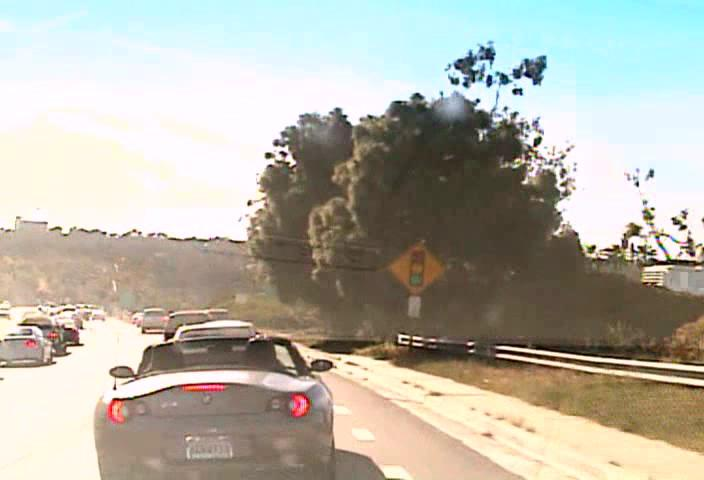signalAhead: (387, 241, 445, 296)
